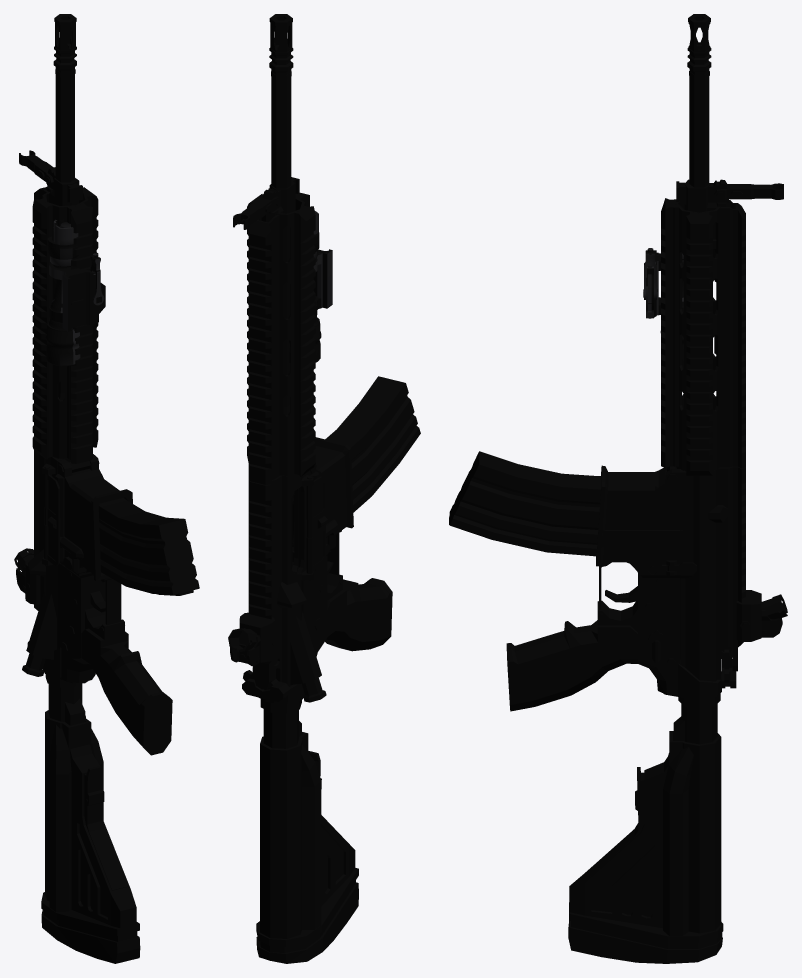
Rendered from HK416__Light_Weapon.fbx.
The picture shows the model from 3 angles, left to right: view 1: azimuth 30°, elevation 25°; view 2: azimuth 150°, elevation 25°; view 3: azimuth 270°, elevation 25°; orthographic projection. The views are drawn at different scales.
Parts seen in each view (by area): view 1: asset_HK416.001; view 2: asset_HK416.001; view 3: asset_HK416.001.
Part boxes in pixels (x1,y1,x2,y2): asset_HK416.001: (14, 14, 199, 963); asset_HK416.001: (228, 14, 420, 963); asset_HK416.001: (449, 14, 787, 963).
Bounding box in the file's own units: 0.0385 × 0.48 × 0.1577.
